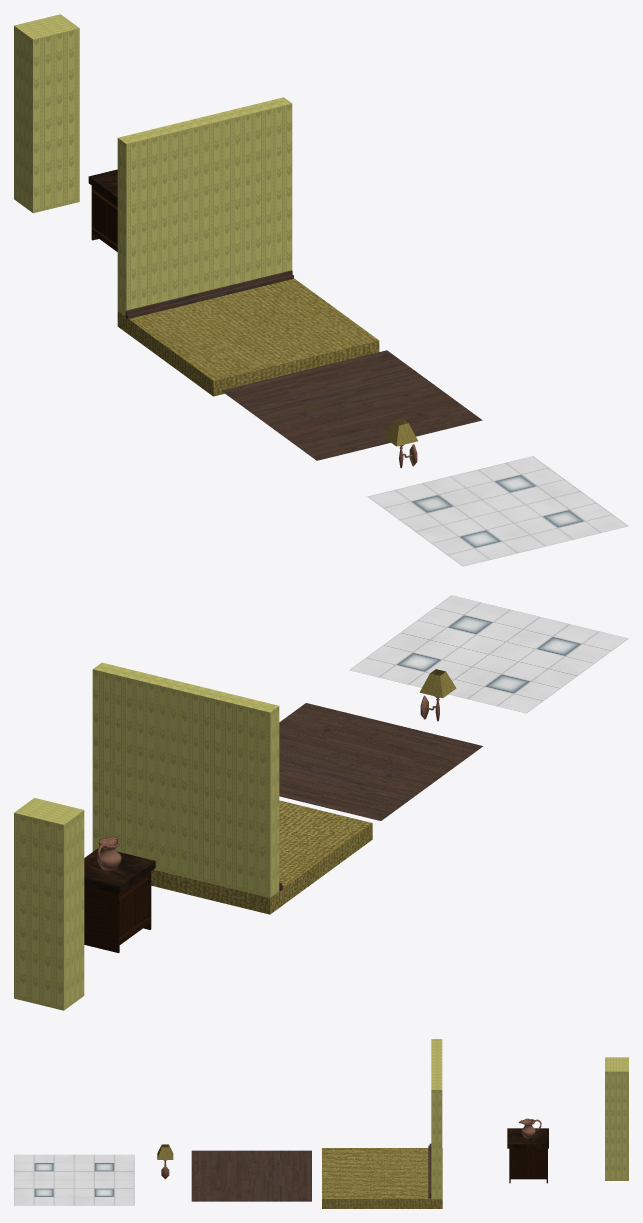
The model's file is mainHotel_GWJ99.glb.
3 renders of one model, top to bottom at view 1: azimuth 30°, elevation 25°; view 2: azimuth 150°, elevation 25°; view 3: azimuth 270°, elevation 25°, orthographic. The views are drawn at different scales.
Parts seen in each view (by area): view 1: backRoomsWall, backRoomsCarpet, backRoomsCeiling, backRoomsCeiling.001, backRoomsPost, cabinet01, backRoomsMolding; view 2: backRoomsWall, backRoomsCeiling, backRoomsCeiling.001, backRoomsPost, backRoomsCarpet, cabinet01, lamp, deco01; view 3: backRoomsCarpet, backRoomsCeiling, backRoomsCeiling.001, backRoomsPost, cabinet01, backRoomsWall, deco01.
Boxes of the visible parts, x1=… form: backRoomsWall: x1=117, y1=97, x2=292, y2=316; backRoomsCarpet: x1=117, y1=278, x2=379, y2=396; backRoomsCeiling: x1=367, y1=456, x2=628, y2=566; backRoomsCeiling.001: x1=221, y1=350, x2=482, y2=460; backRoomsPost: x1=14, y1=14, x2=79, y2=213; cabinet01: x1=88, y1=169, x2=117, y2=251; backRoomsMolding: x1=125, y1=270, x2=293, y2=318; backRoomsWall: x1=92, y1=662, x2=279, y2=897; backRoomsCeiling: x1=349, y1=595, x2=628, y2=713; backRoomsCeiling.001: x1=279, y1=703, x2=483, y2=820; backRoomsPost: x1=14, y1=798, x2=84, y2=1010; backRoomsCarpet: x1=151, y1=800, x2=372, y2=914; cabinet01: x1=84, y1=848, x2=155, y2=952; lamp: x1=419, y1=669, x2=456, y2=698; deco01: x1=97, y1=836, x2=121, y2=870; backRoomsCarpet: x1=322, y1=1148, x2=442, y2=1208; backRoomsCeiling: x1=14, y1=1154, x2=134, y2=1205; backRoomsCeiling.001: x1=191, y1=1150, x2=311, y2=1201; backRoomsPost: x1=605, y1=1057, x2=628, y2=1180; cabinet01: x1=507, y1=1128, x2=548, y2=1183; backRoomsWall: x1=431, y1=1039, x2=442, y2=1199; deco01: x1=519, y1=1118, x2=541, y2=1138.
Size of the model in its own units: 2.07 by 2.17 by 10.2.
Materials: 8 (8 with a texture image).
